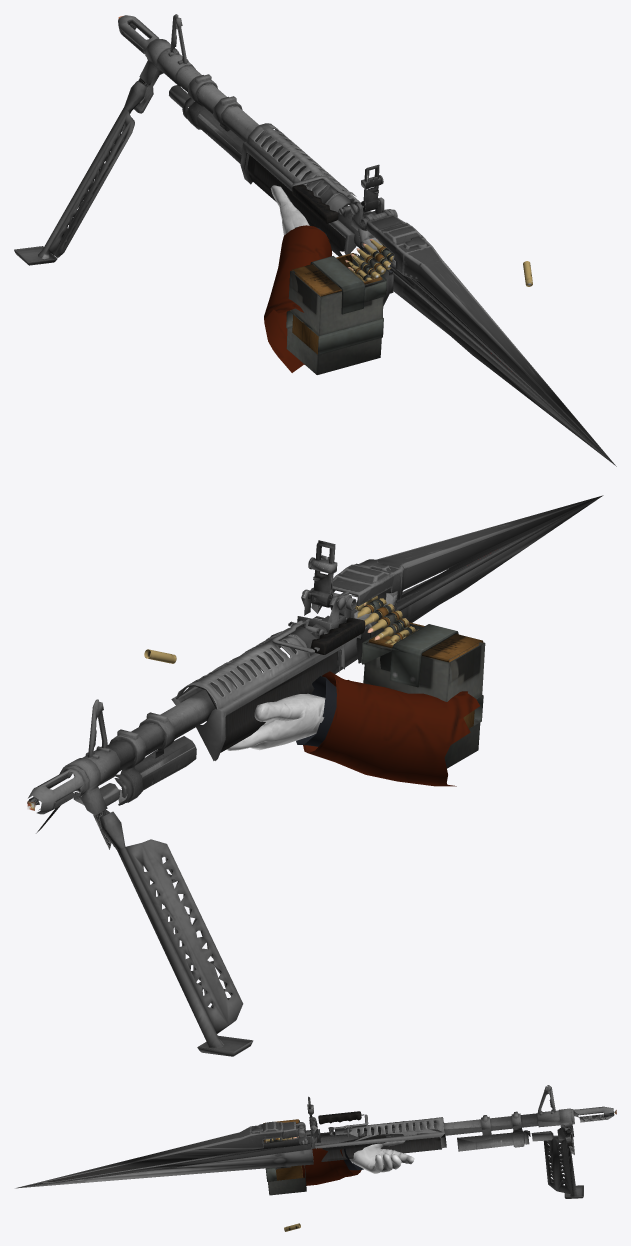
The model's file is frame_10.obj.
The picture shows the model from 3 angles, top to bottom: view 1: azimuth 30°, elevation 25°; view 2: azimuth 150°, elevation 25°; view 3: azimuth 270°, elevation 25°; orthographic projection. The views are drawn at different scales.
Parts seen in each view (by area): view 1: Mesh.005, PlayerModelMerged.001_PlayerModelMerged, Mesh.001; view 2: Mesh.005, PlayerModelMerged.001_PlayerModelMerged, Mesh.001; view 3: Mesh.005, PlayerModelMerged.001_PlayerModelMerged.
Boxes of the visible parts, left/top/right/bottom form: Mesh.005: left=14, top=14, right=616, bottom=466; PlayerModelMerged.001_PlayerModelMerged: left=264, top=185, right=332, bottom=372; Mesh.001: left=345, top=239, right=393, bottom=281; Mesh.005: left=27, top=495, right=603, bottom=1056; PlayerModelMerged.001_PlayerModelMerged: left=226, top=671, right=479, bottom=786; Mesh.001: left=356, top=598, right=415, bottom=643; Mesh.005: left=15, top=1085, right=614, bottom=1198; PlayerModelMerged.001_PlayerModelMerged: left=302, top=1140, right=414, bottom=1185.
Size of the model in its own units: 0.8113 by 0.6117 by 2.26.
